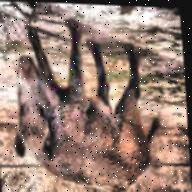boar: (0, 18, 164, 192)
